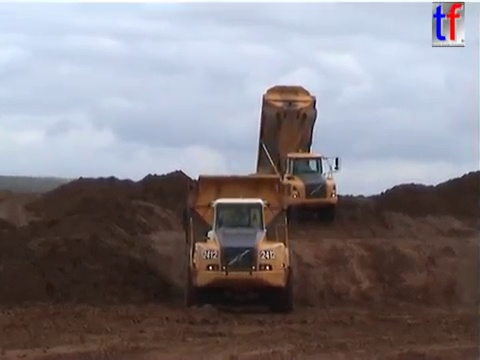truck: (179, 171, 296, 314), (247, 83, 343, 225)
